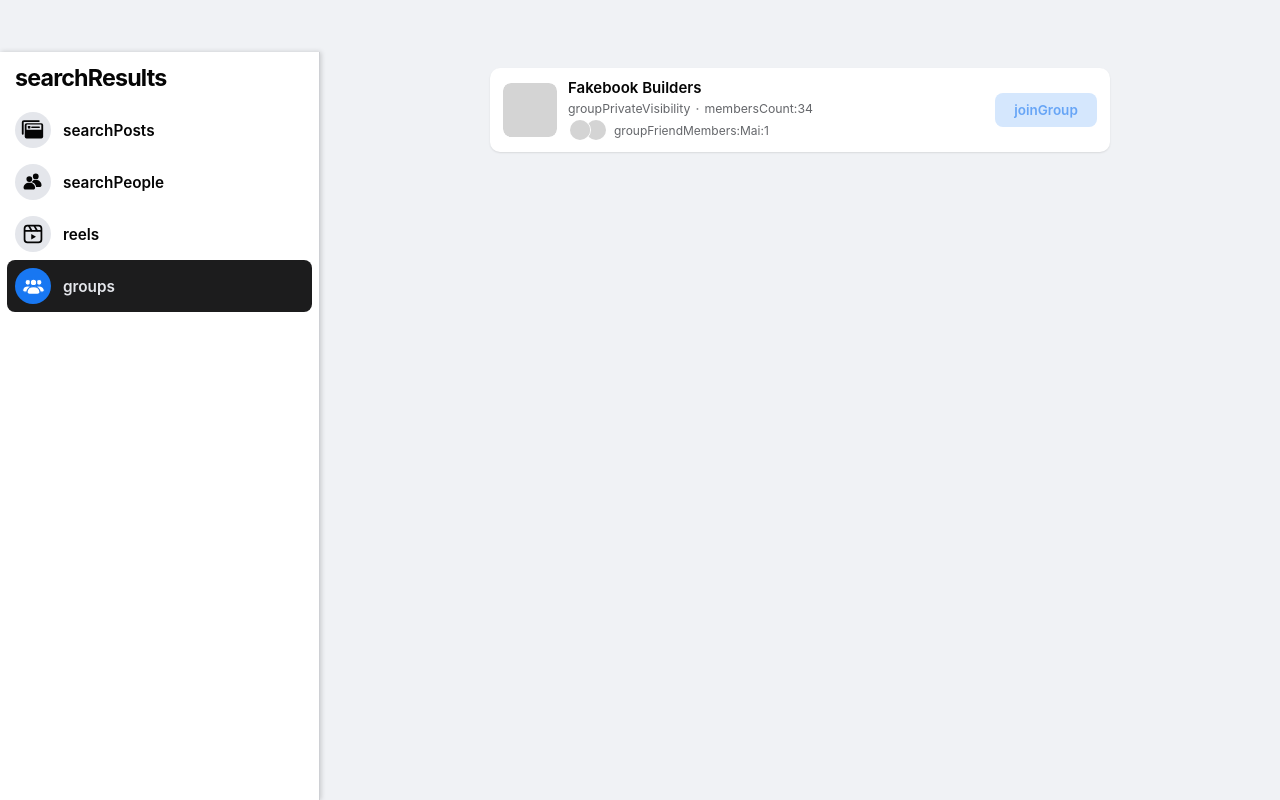
Test: SearchPage results redesign › renders group membership metadata and changes Join to Requested after a successful request
Expected: the text "Fakebook Builders" is shown, [568,79,702,98]
Expected: the element with class "search-group-result" shows "groupPrivateVisibility", [568,79,984,141]
Click the button "joinGroup": point(1046, 110) [995,93,1097,127]
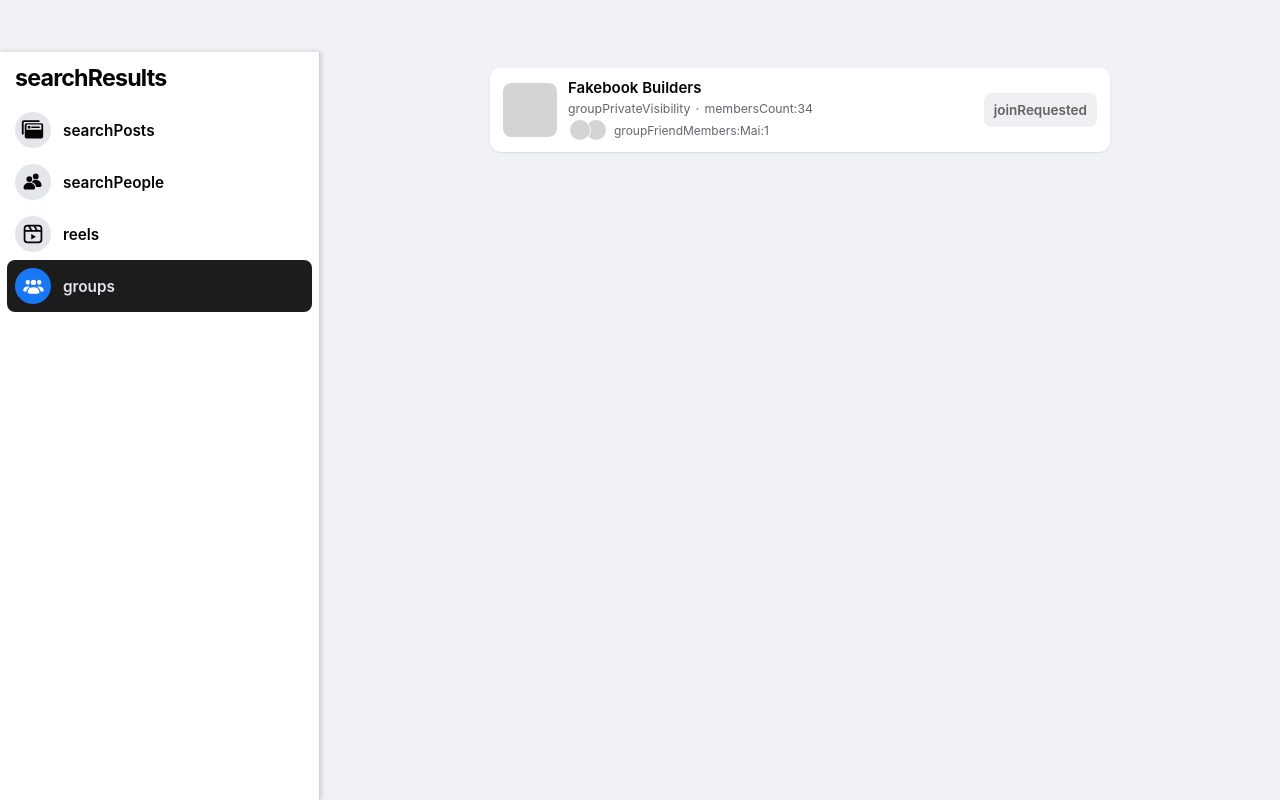
Result: the button "joinRequested" is disabled at [984,93,1097,127]
